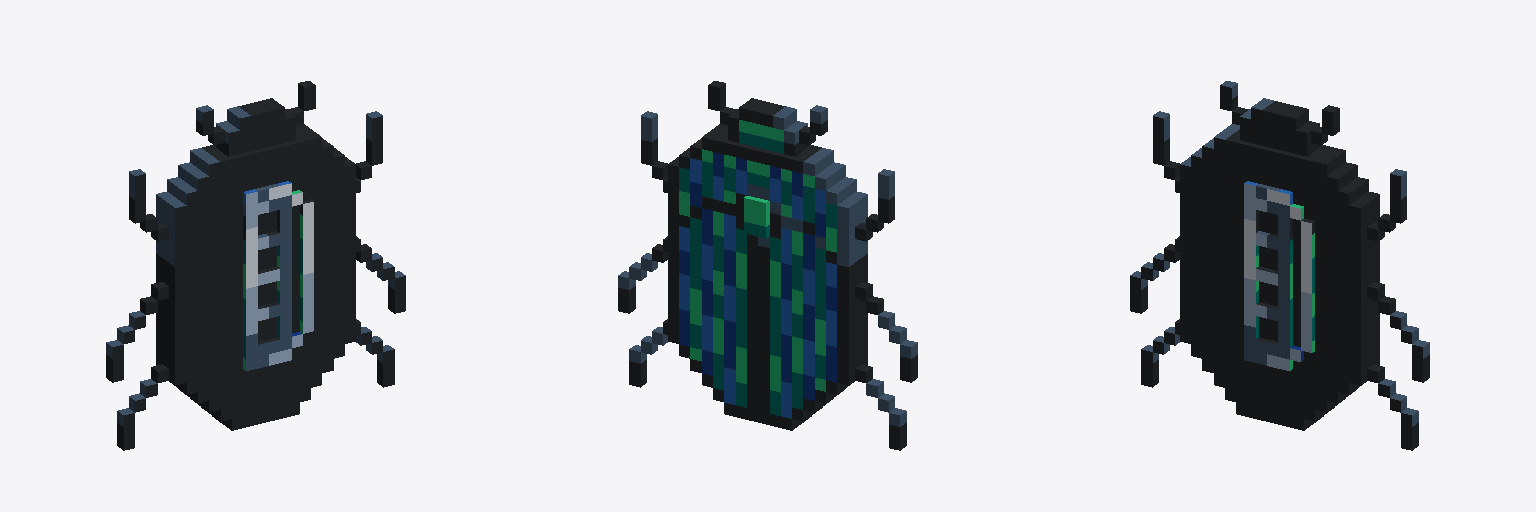
File: BeetleBrooch.obj
The picture shows the model from 3 angles: view 1: azimuth 30°, elevation 25°; view 2: azimuth 150°, elevation 25°; view 3: azimuth 330°, elevation 25°; orthographic projection.
Size of the model in its own units: 26 by 27 by 4.